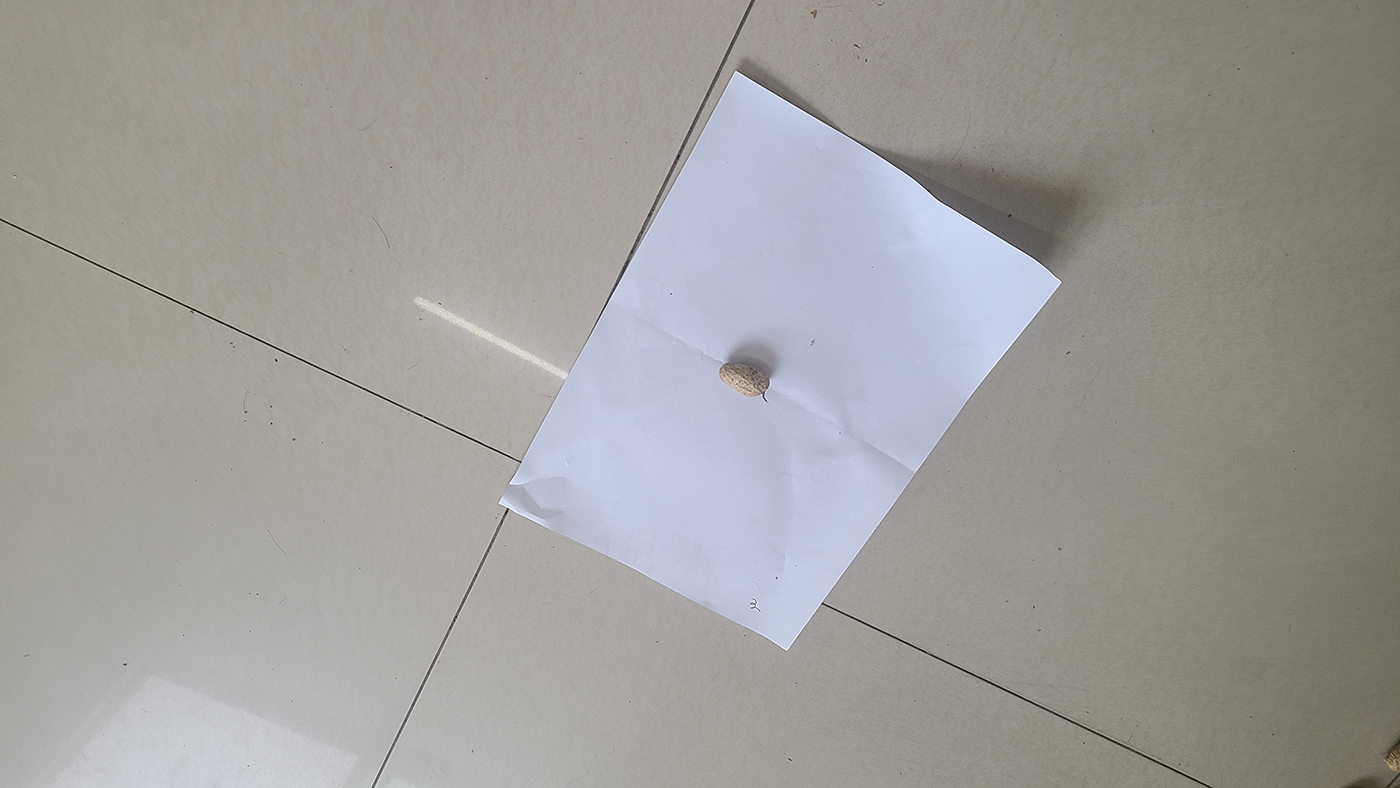h: (719, 360, 771, 397)
